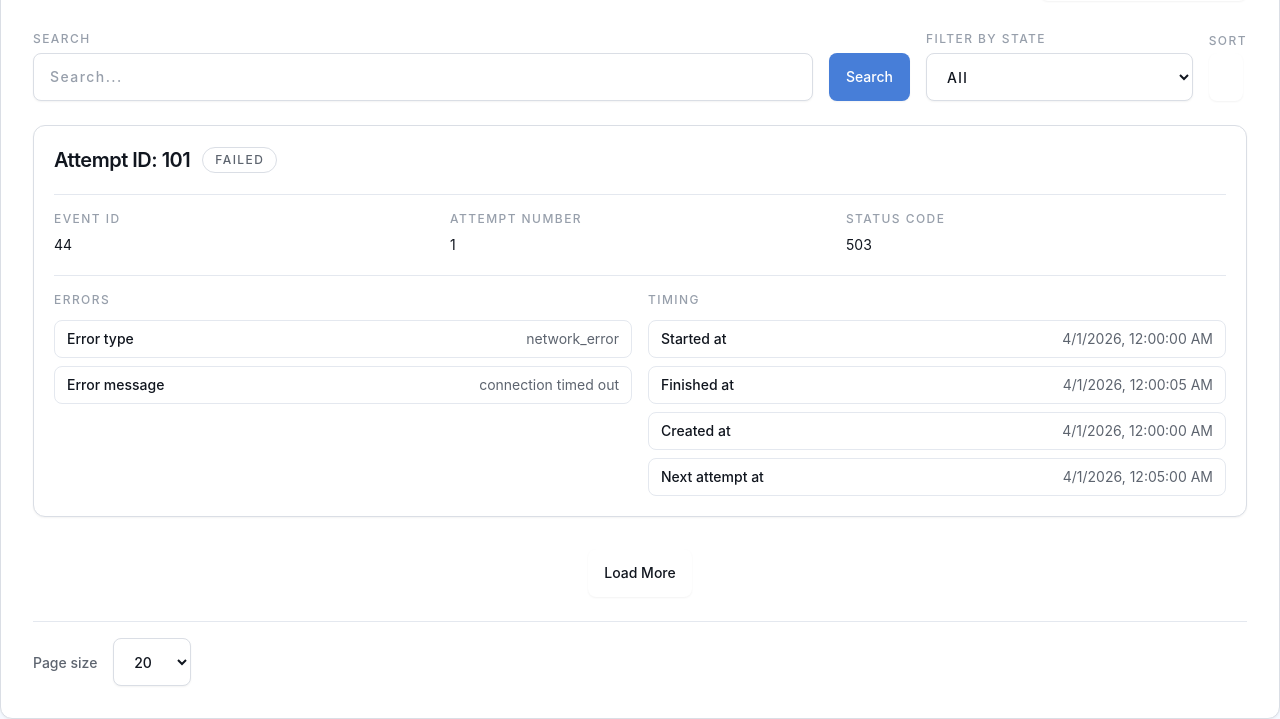
Test: DeliveryAttemptList › loads another page when load more is clicked
This screenshot has width=1280, height=719.
(page scrolled)
Expected: the heading "Attempt ID: 101" is shown, [54,146,190,174]
Click the button "Load More" at (640, 573), box [588,549,692,597]
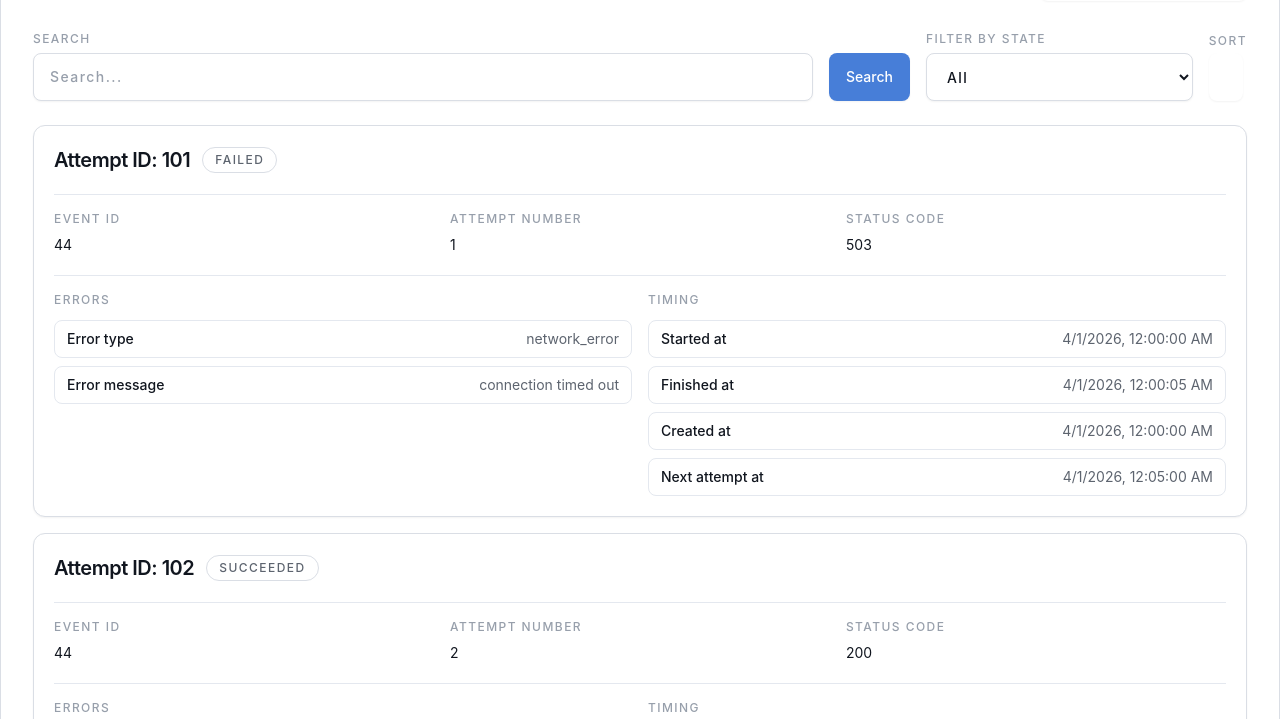
Expected: the heading "Attempt ID: 102" is shown, [54,554,194,582]
